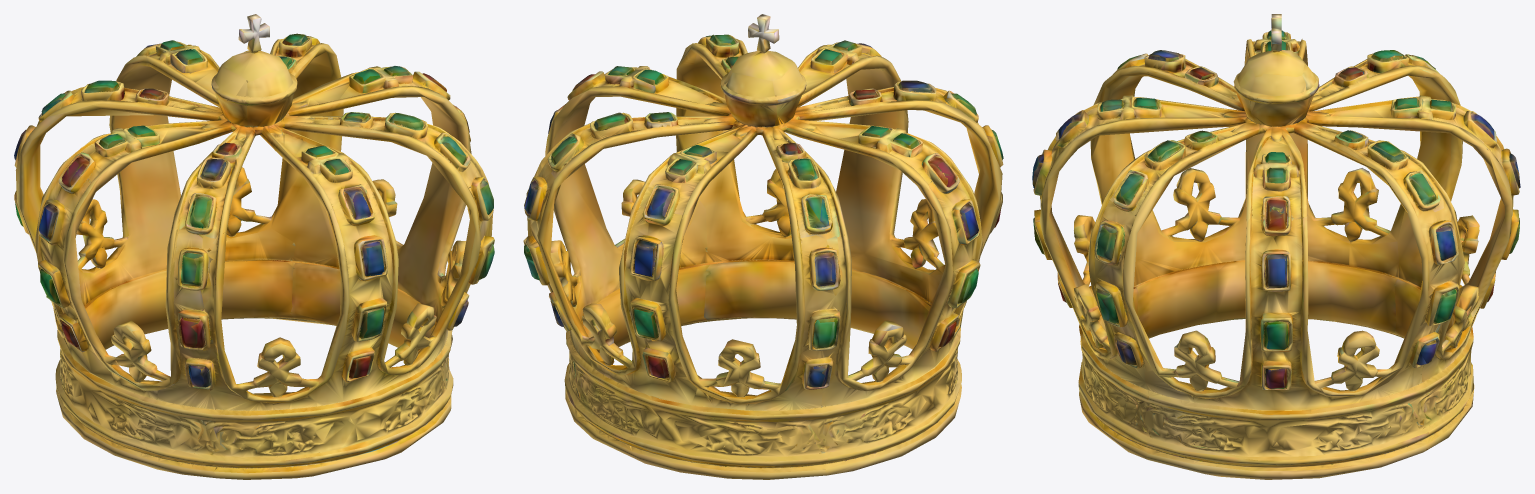
The picture shows the model from 3 angles, left to right: view 1: azimuth 30°, elevation 25°; view 2: azimuth 150°, elevation 25°; view 3: azimuth 270°, elevation 25°; orthographic projection.
Bounding box in the file's own units: 1.99 × 1.72 × 1.98.
1 material, 1 textured.
